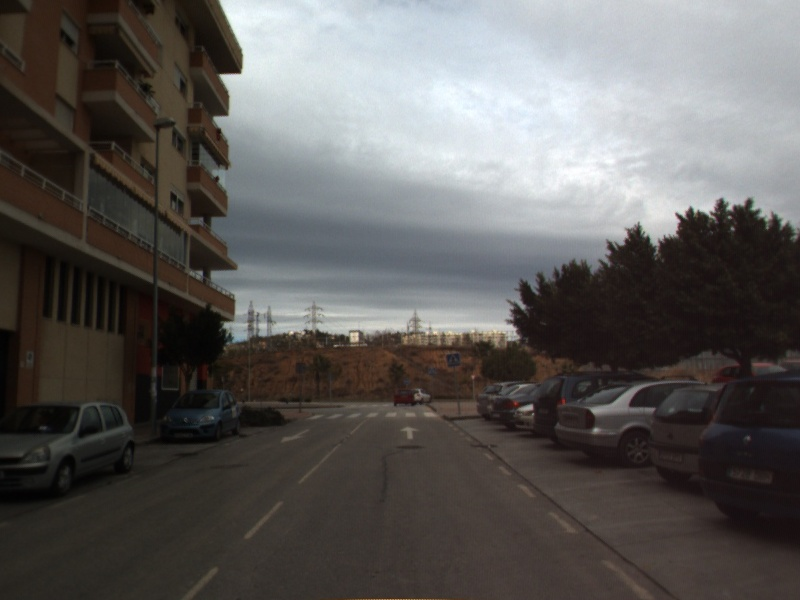STRAIGHT: (398, 424, 422, 441)
